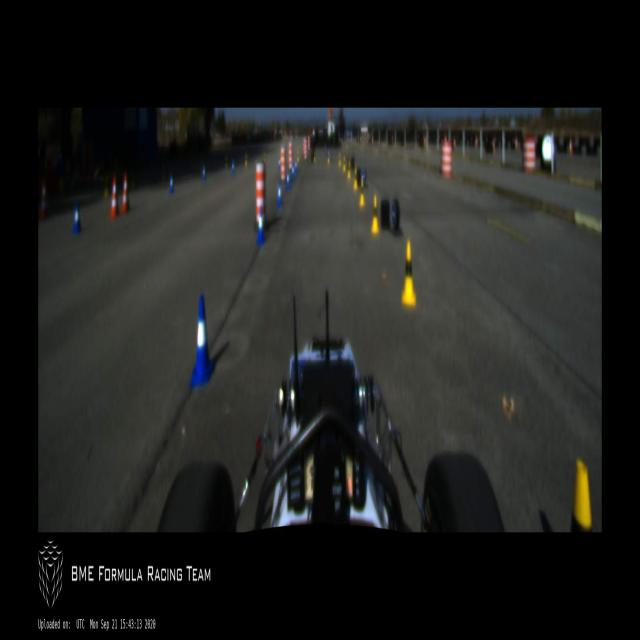blue_cone: (190, 294, 213, 386), (257, 206, 265, 246), (73, 203, 81, 234), (277, 180, 282, 208), (169, 172, 174, 194), (286, 170, 290, 190), (291, 162, 295, 181), (231, 158, 235, 174), (294, 159, 298, 173), (202, 165, 205, 181), (278, 156, 280, 168)
large_orange_cone: (108, 174, 120, 218), (120, 171, 130, 214), (41, 180, 49, 218)
yellow_cone: (571, 457, 593, 530), (401, 240, 417, 306), (371, 195, 379, 234), (359, 179, 366, 206), (353, 167, 358, 190), (104, 178, 108, 197), (347, 160, 351, 178), (245, 152, 248, 168), (343, 157, 346, 172), (338, 152, 341, 166), (225, 157, 228, 170), (328, 151, 330, 163), (314, 151, 316, 163), (297, 151, 299, 163), (263, 152, 265, 164)
